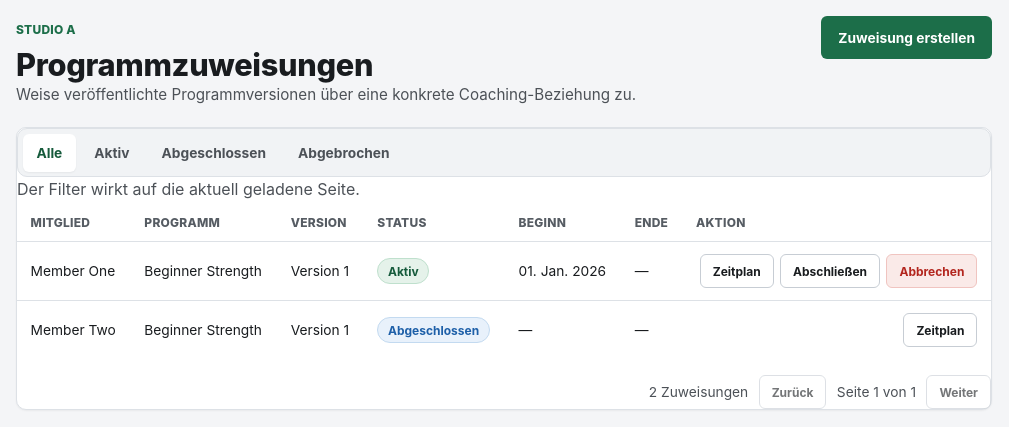
Test case: ProgramAssignmentsView › filters the loaded page by status using the tabs
Click the tab "Abgeschlossen".
click(214, 153)  # box [148, 134, 280, 172]
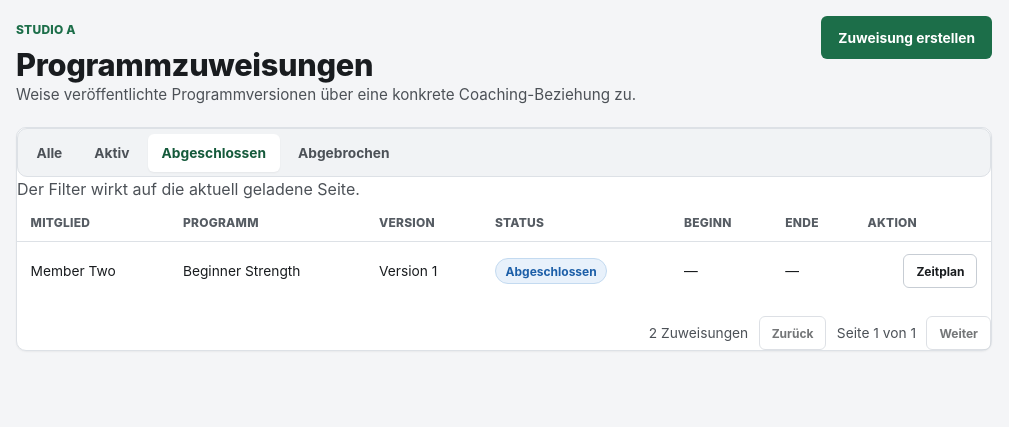
Expected: the text "Member Two" is shown, [17, 242, 169, 300]
Expected: the text "Member One" is gone
